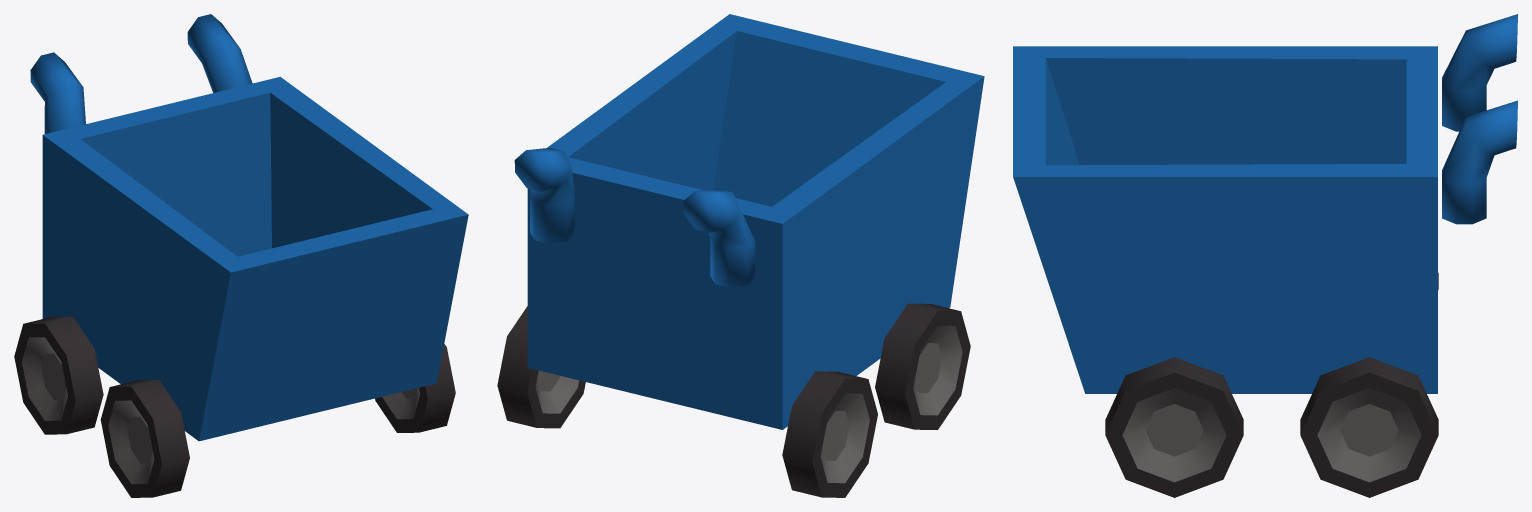
File: Car_00.fbx
3 views of the same model, side by side, from view 1: azimuth 30°, elevation 25°; view 2: azimuth 150°, elevation 25°; view 3: azimuth 270°, elevation 25° (orthographic). The views are drawn at different scales.
Parts seen in each view (by area): view 1: Car_00; view 2: Car_00; view 3: Car_00.
Part boxes in pixels (box(x1,y1,x2,y2)): Car_00: box(14, 14, 468, 497); Car_00: box(497, 14, 984, 497); Car_00: box(1013, 14, 1517, 497).
Bounding box in the file's own units: 111 × 114 × 147.
